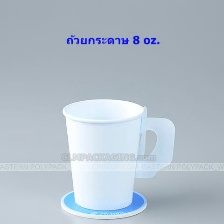paper_cup: (56, 95, 179, 212)
